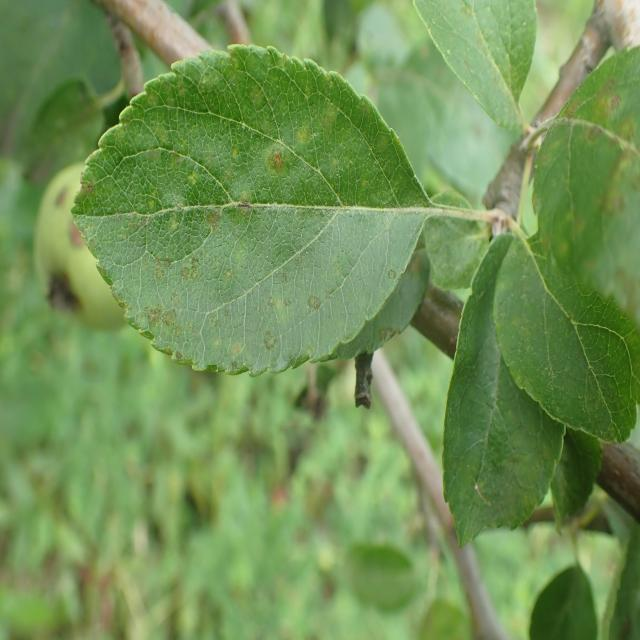scab: (72, 83, 402, 386), (562, 32, 640, 366), (447, 281, 527, 552)
